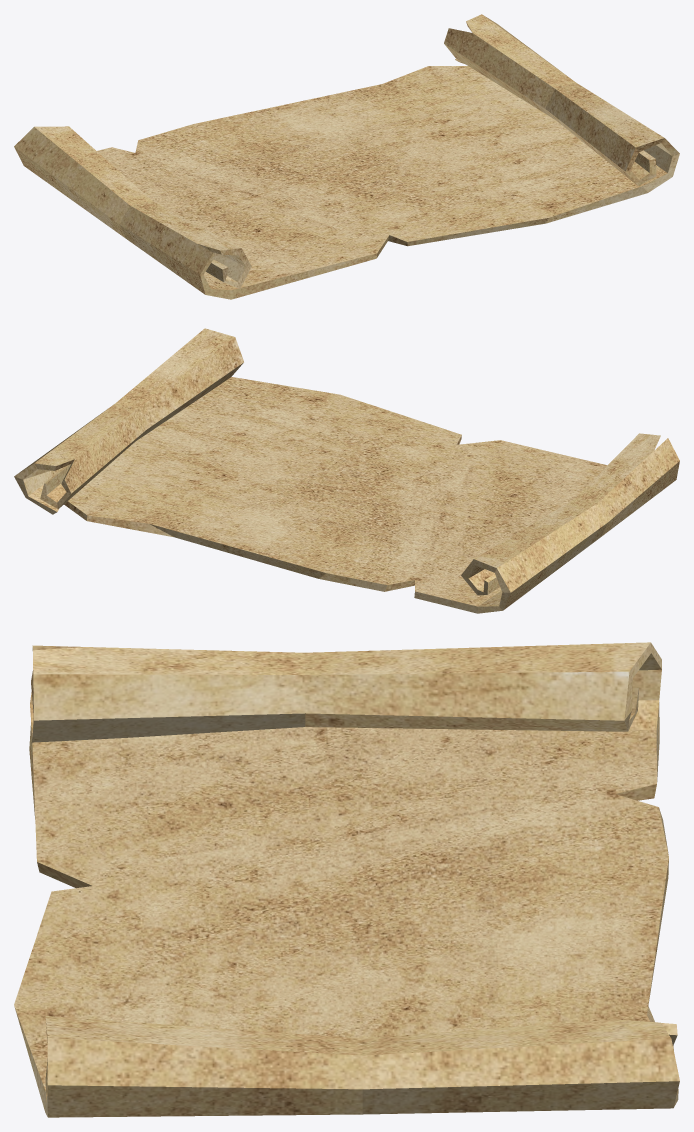
Rendered from Map (2).fbx.
3 renders of one model, top to bottom at view 1: azimuth 30°, elevation 25°; view 2: azimuth 150°, elevation 25°; view 3: azimuth 270°, elevation 25°, orthographic. The views are drawn at different scales.
Visible parts, largest first — view 1: Map; view 2: Map; view 3: Map.
Part boxes in pixels (x1,y1,x2,y2): Map: [14, 14, 679, 299]; Map: [14, 328, 679, 613]; Map: [14, 642, 679, 1117].
Size of the model in its own units: 240 by 23.78 by 159.
1 material, 1 textured.
